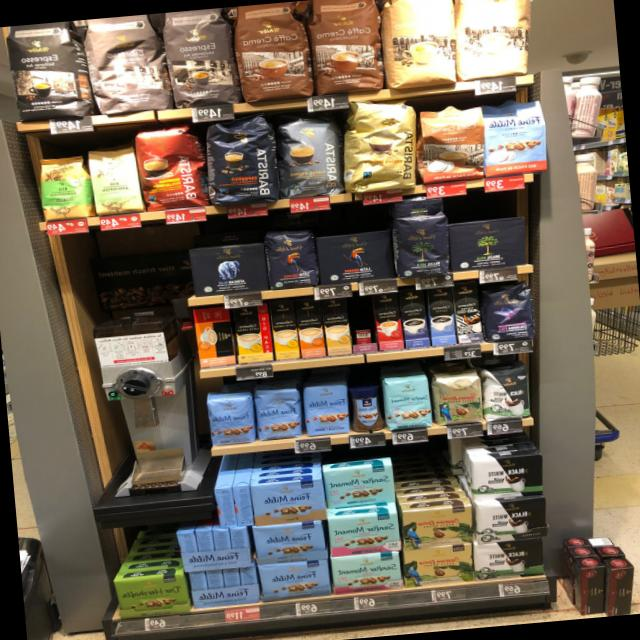AB Gemahlen: (190, 240, 266, 298)
Athiopien Bohne: (37, 155, 90, 221)
Athiopien Gemahlen: (86, 145, 142, 216)
BM Bohne: (391, 211, 451, 280)
BM Gemahlen: (444, 214, 530, 272)
BW Bohne: (479, 364, 534, 423)
BW Gemahlen: (472, 494, 550, 544), (466, 454, 546, 502), (473, 538, 544, 580)
Barista CB: (340, 99, 422, 194)
Barista CC: (274, 112, 346, 198)
Barista Espresso: (200, 114, 280, 208)
Barista Kolumbien: (132, 123, 205, 212)
C Fino Bohne: (478, 281, 536, 344)
CC Mild: (451, 0, 538, 83), (379, 0, 459, 90)
CC Vollmundig: (415, 103, 489, 184)
CC Vollmundig 36 Pads: (231, 1, 310, 104), (308, 0, 383, 93)
Colombia BB Bohne: (430, 372, 485, 427)
Colombia BB Gemahlen: (400, 504, 478, 552), (401, 543, 476, 588)
Empty Shelf: (348, 295, 377, 346)
Espresso Aromatisch: (81, 12, 169, 118)
Espresso Kraftig: (5, 20, 85, 126)
Espresso M Art: (163, 7, 236, 112)
FM 36 Pads: (480, 98, 548, 176)
FM Bohne: (300, 383, 352, 437), (252, 388, 302, 441), (206, 394, 256, 446)
FM Gemahlen: (249, 478, 325, 526), (252, 521, 326, 565), (257, 558, 330, 602)
FM Instant: (348, 383, 384, 434)
Herzhatfe Mundig: (112, 572, 188, 620)
LG Bohne: (261, 228, 319, 290)
LG Gemahlen: (316, 228, 394, 285)
SM Bohne: (382, 374, 432, 430)
SM Gemahlen: (327, 511, 400, 557), (329, 550, 402, 594), (323, 464, 395, 508)
Simo CCMild: (232, 302, 272, 363)
Simo CCMild bigpack: (270, 300, 298, 360)
Simo CCVollmundig bigpack: (295, 298, 325, 359)
Simo Decaff: (322, 296, 352, 356)
Simo Es Brazil: (374, 291, 403, 351)
Simo Es Kraft: (452, 282, 482, 344), (399, 288, 428, 350)
Simo Es Vanilla: (425, 286, 456, 347)
